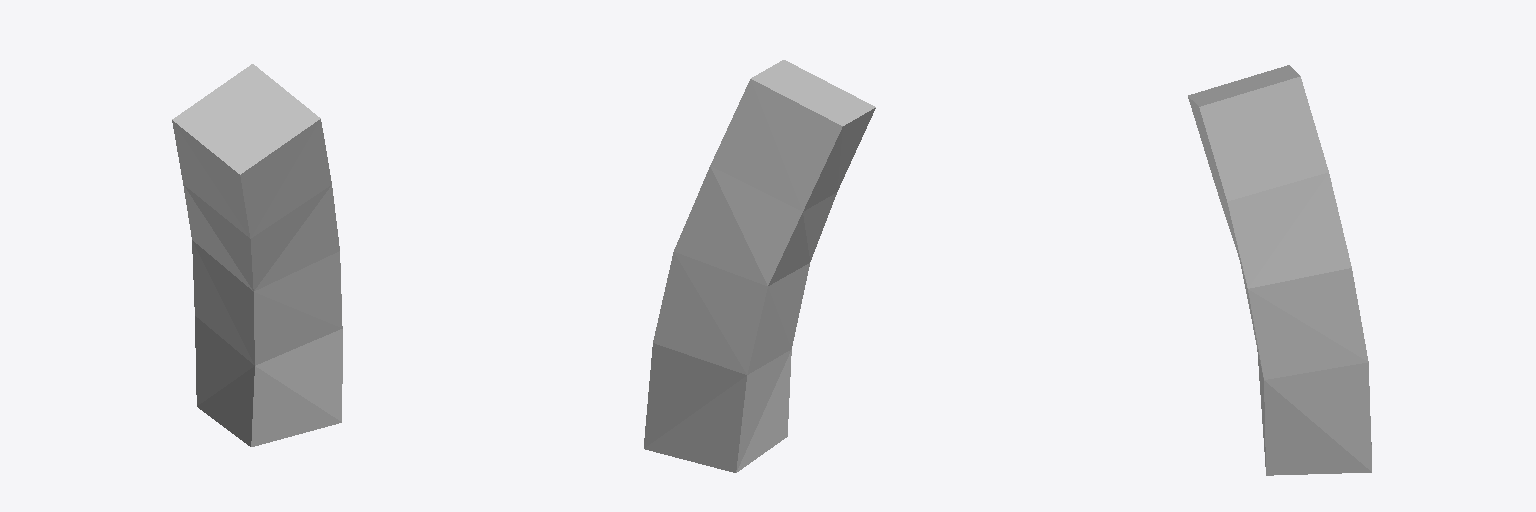
Rendered from wiggle_000043.obj.
3 views of the same model, side by side, from view 1: azimuth 30°, elevation 25°; view 2: azimuth 150°, elevation 25°; view 3: azimuth 270°, elevation 25° (orthographic).
Parts seen in each view (by area): view 1: Cube; view 2: Cube; view 3: Cube.
Part boxes in pixels (x1,y1,x2,y2): Cube: (172, 64, 342, 446); Cube: (644, 60, 875, 472); Cube: (1188, 65, 1371, 475).
Size of the model in its own units: 3.45 by 7.6 by 3.48.